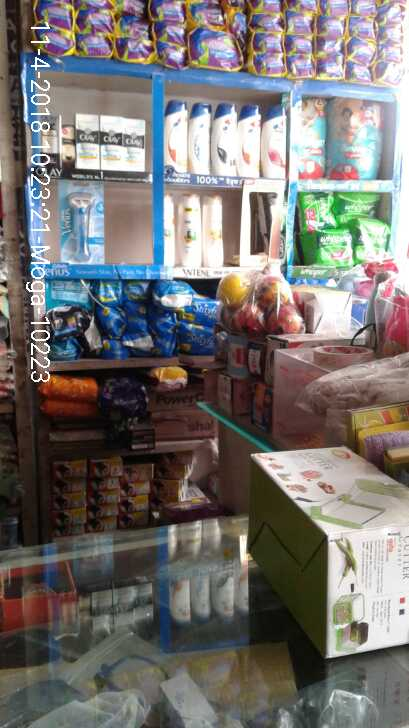venus: (64, 178, 104, 264)
